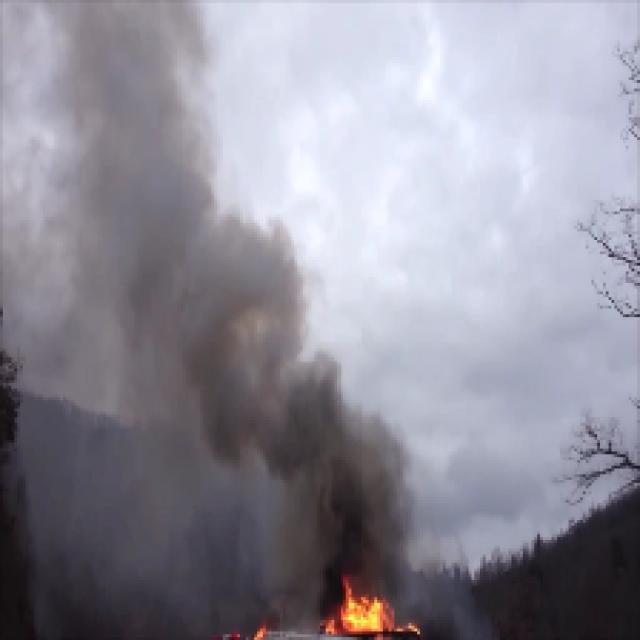smoke: (38, 17, 210, 450)
